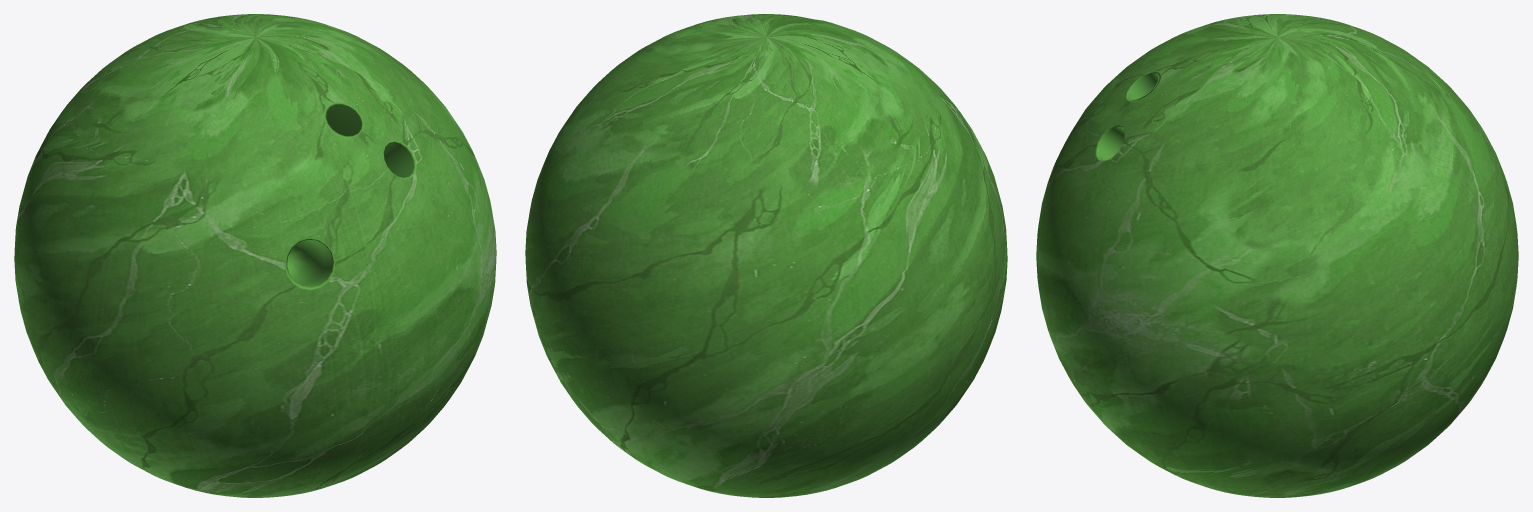
The model's file is ball.fbx.
3 views of the same model, side by side, from view 1: azimuth 30°, elevation 25°; view 2: azimuth 150°, elevation 25°; view 3: azimuth 270°, elevation 25° (orthographic).
Parts seen in each view (by area): view 1: Earth; view 2: Earth; view 3: Earth.
Boxes of the visible parts, bbox=[...] form: Earth: bbox=[14, 14, 496, 497]; Earth: bbox=[525, 14, 1007, 497]; Earth: bbox=[1036, 14, 1518, 497].
Bounding box in the file's own units: 21.83 × 21.83 × 21.83.
